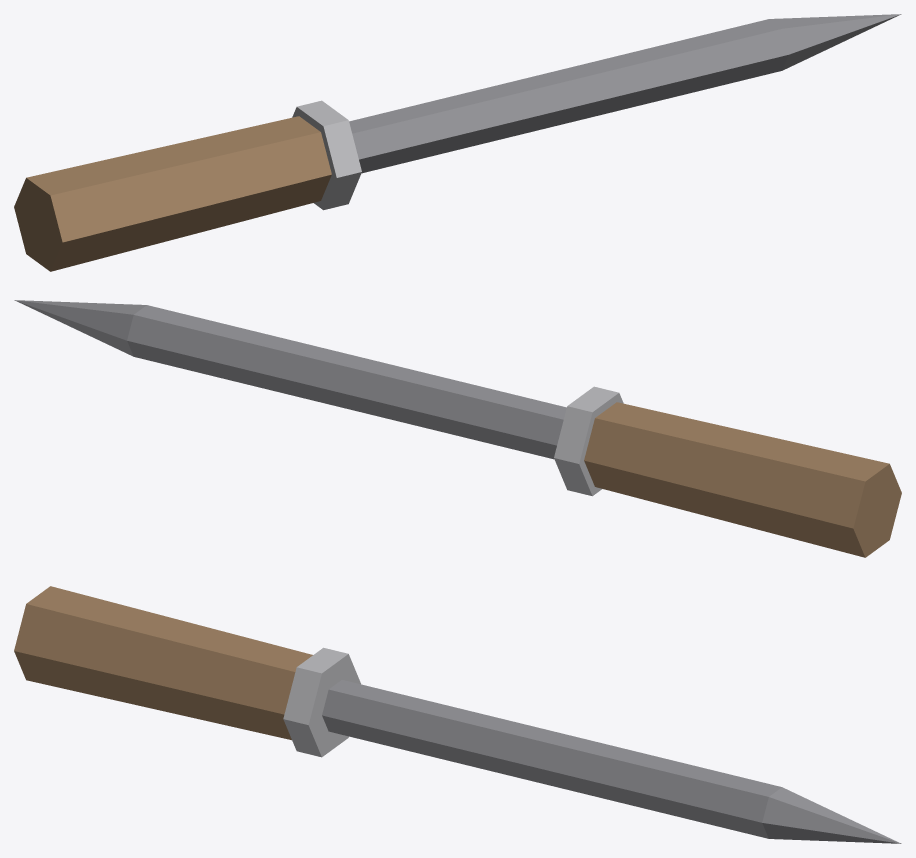
Rendered from prop-chisel-point-ms1.fbx.
3 renders of one model, top to bottom at view 1: azimuth 30°, elevation 25°; view 2: azimuth 150°, elevation 25°; view 3: azimuth 330°, elevation 25°, orthographic.
Parts seen in each view (by area): view 1: prop-chisel-point-ms1; view 2: prop-chisel-point-ms1; view 3: prop-chisel-point-ms1.
Boxes of the visible parts, box(x1,y1,x2,y2) form: prop-chisel-point-ms1: box(14, 14, 901, 271); prop-chisel-point-ms1: box(14, 300, 901, 557); prop-chisel-point-ms1: box(14, 586, 901, 843).
Size of the model in its own units: 41 by 3.81 by 4.4.
